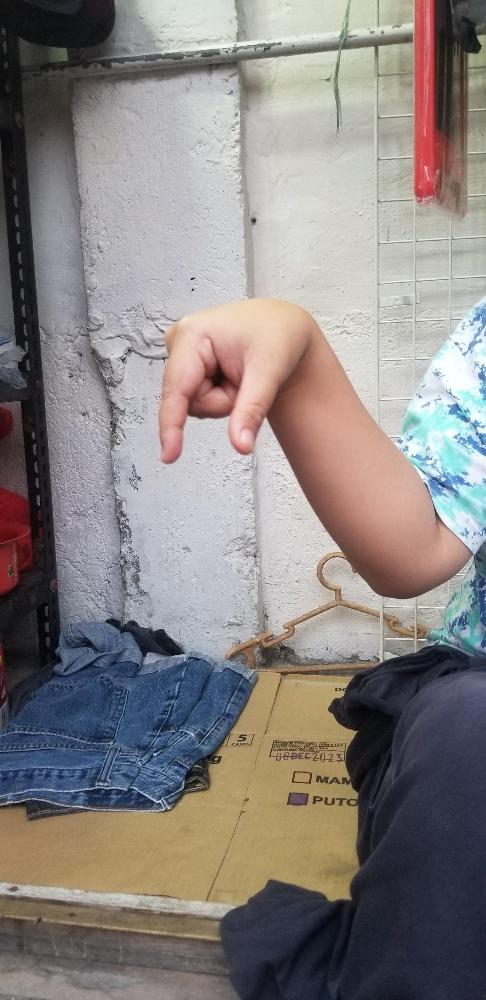q: (156, 296, 300, 464)
